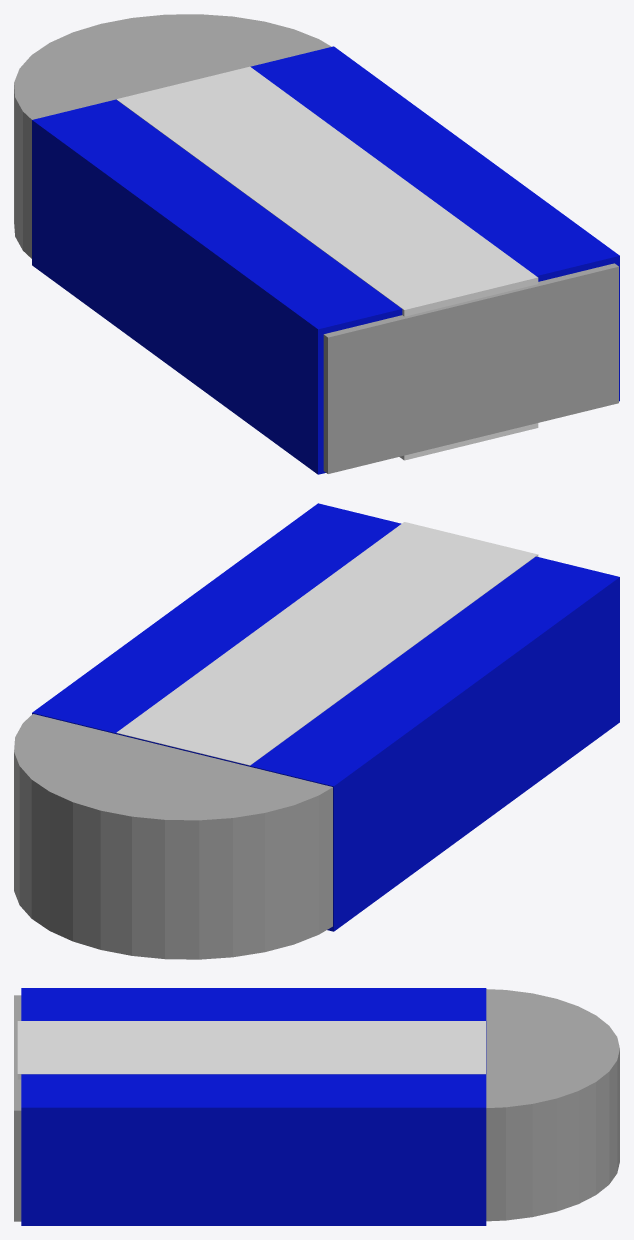
The model's file is kesigomu.fbx.
3 views of the same model, one above another, from view 1: azimuth 30°, elevation 25°; view 2: azimuth 150°, elevation 25°; view 3: azimuth 270°, elevation 25° (orthographic). The views are drawn at different scales.
Parts seen in each view (by area): view 1: 立方体, 立方体.002, 立方体.001, 円柱; view 2: 立方体, 円柱, 立方体.001; view 3: 立方体, 円柱, 立方体.001, 立方体.002.
Part boxes in pixels (x1,y1,x2,y2): 立方体: [32, 46, 619, 474]; 立方体.002: [323, 263, 618, 473]; 立方体.001: [116, 66, 538, 460]; 円柱: [14, 14, 331, 258]; 立方体: [32, 503, 619, 931]; 円柱: [14, 714, 332, 959]; 立方体.001: [116, 522, 538, 765]; 立方体: [21, 988, 486, 1225]; 円柱: [486, 989, 619, 1221]; 立方体.001: [17, 1021, 485, 1079]; 立方体.002: [14, 995, 21, 1221].
Bounding box in the file's own units: 200 × 95.27 × 428.
